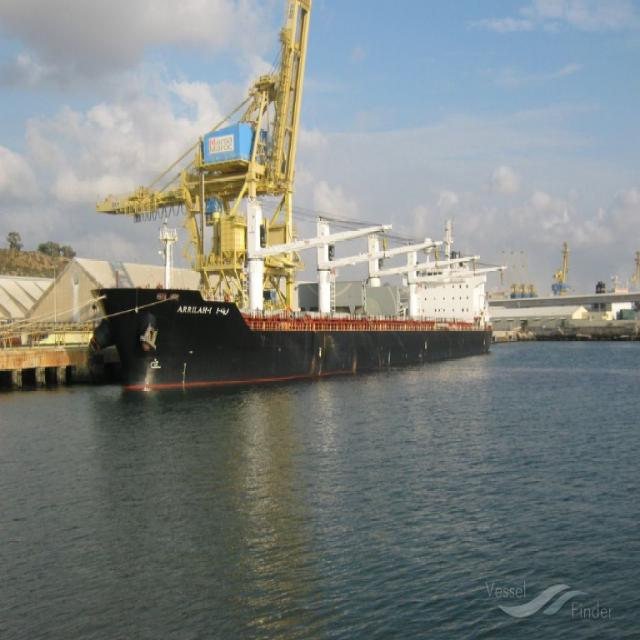OCR: (175, 292, 215, 328)
